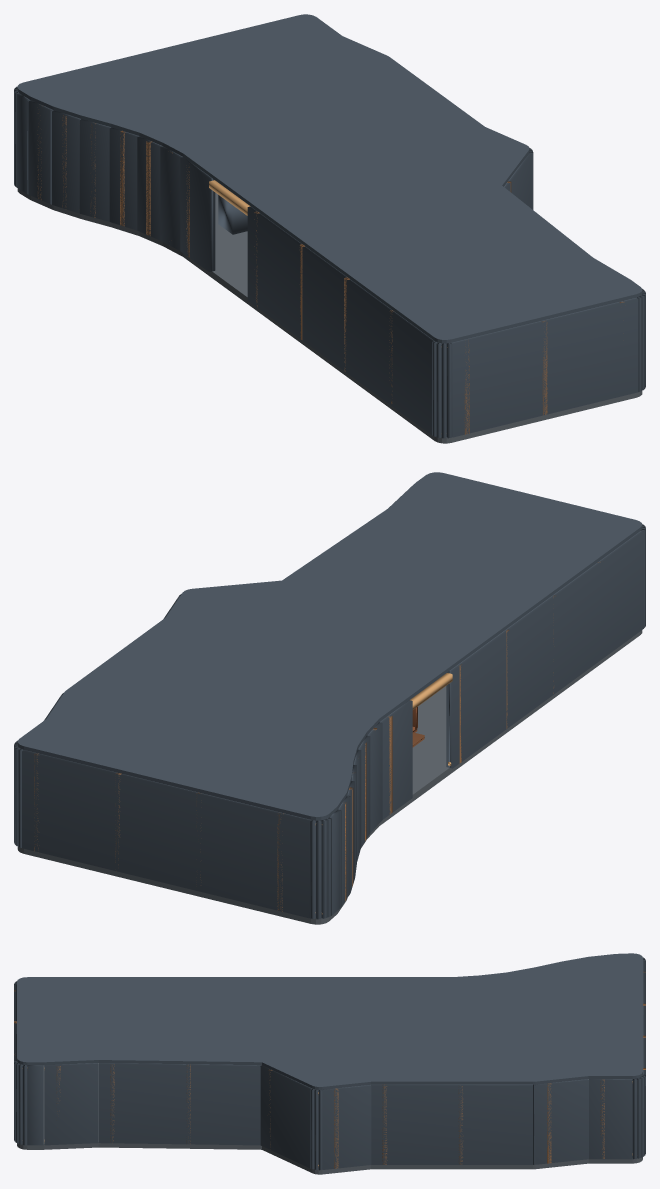
The model's file is Mess_Hall.glb.
The picture shows the model from 3 angles, top to bottom: view 1: azimuth 30°, elevation 25°; view 2: azimuth 150°, elevation 25°; view 3: azimuth 270°, elevation 25°; orthographic projection. The views are drawn at different scales.
Parts seen in each view (by area): view 1: Ceiling_panel, Wall (×12), Mess_Hall_floor, Galley_counter; view 2: Ceiling_panel, Wall (×8), Mess_Hall_floor; view 3: Ceiling_panel, Wall (×16), Mess_Hall_floor.
Part boxes in pixels (box(x1,y1,x2,y2)): Ceiling_panel: box(17, 14, 642, 343); Wall (×12): box(16, 93, 638, 438); Mess_Hall_floor: box(17, 188, 642, 443); Galley_counter: box(218, 195, 247, 234); Ceiling_panel: box(17, 472, 642, 820); Wall (×8): box(22, 531, 643, 918); Mess_Hall_floor: box(17, 630, 642, 924); Ceiling_panel: box(17, 953, 642, 1089); Wall (×16): box(18, 960, 645, 1170); Mess_Hall_floor: box(17, 1063, 642, 1174).
Size of the model in its own units: 11.84 by 3.55 by 23.22.
